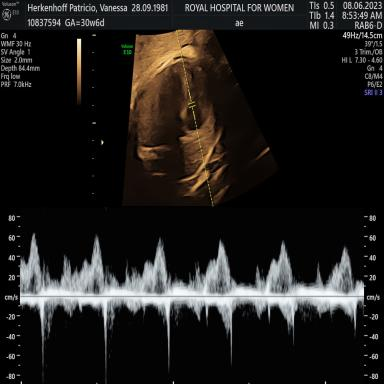Ultrasound-Waves: (27, 215, 362, 384)
